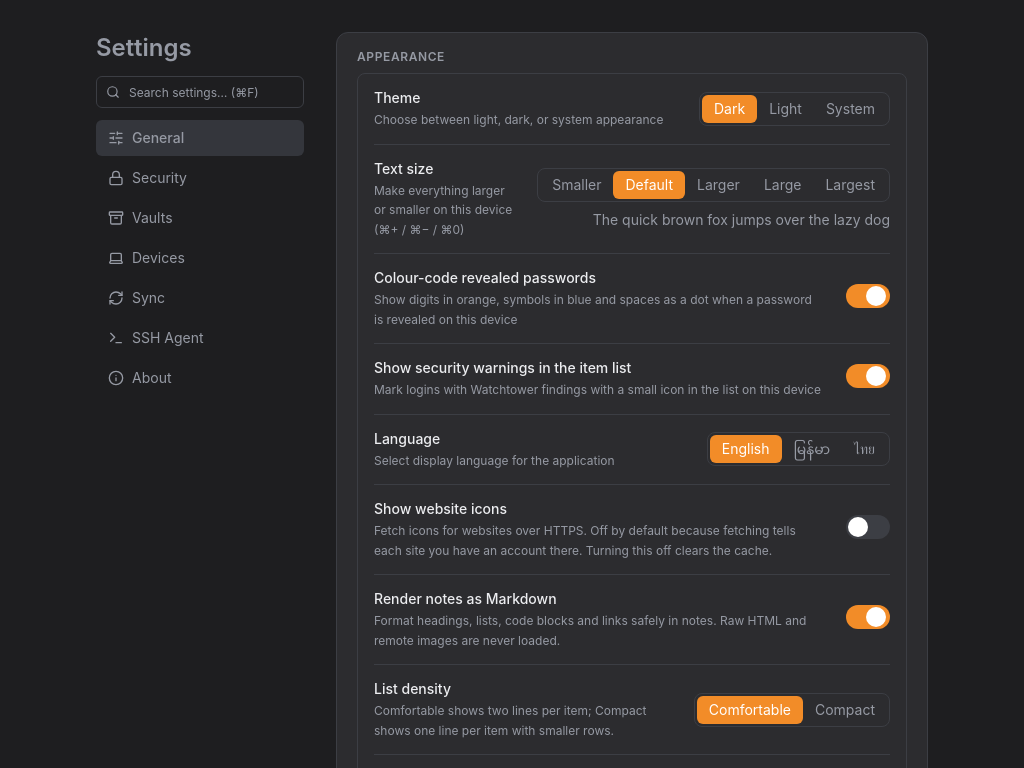
Test: Settings search and consistent layout › filters settings across all tabs and displays matching results with tab name
Step 1. Type "password" into the search field with test id "settings-search-input" → [200, 92], box [96,76,304,108]
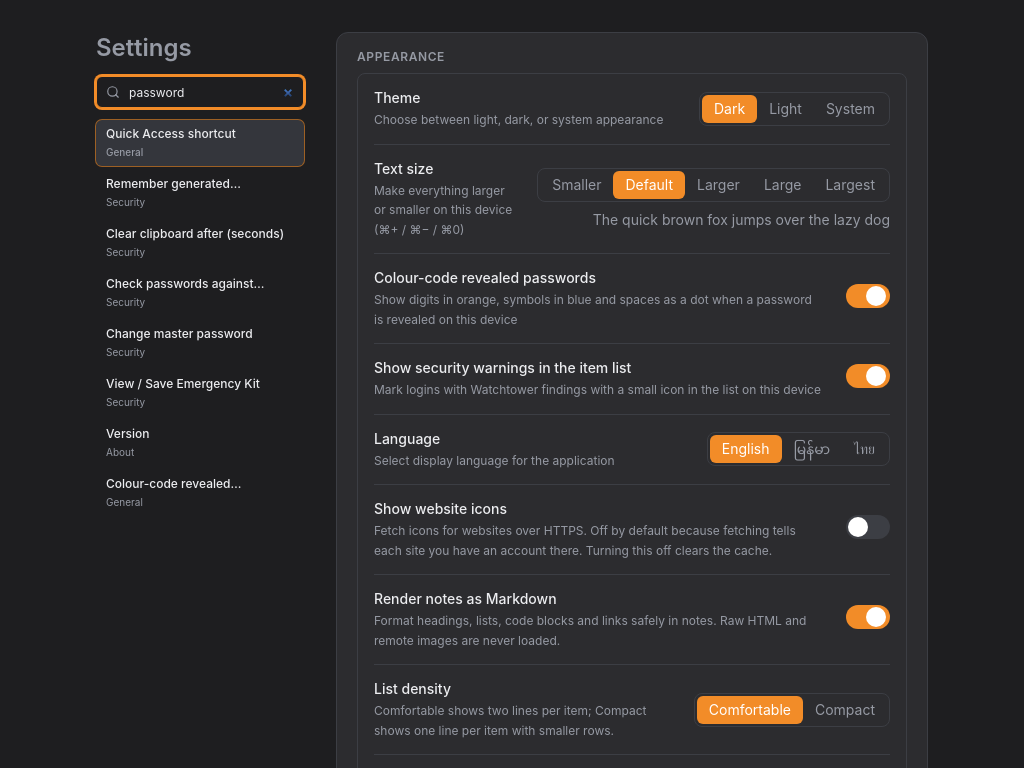
Expected: the list with test id "settings-search-results" is shown, [96,120,304,516]
Expected: the text "Change master password" is shown, [106,326,253,342]
Expected: the 1st text "Security" is shown, [106,194,145,210]
